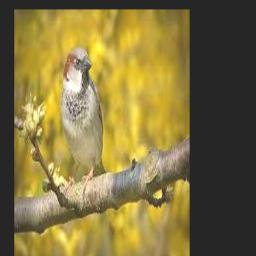Sparrow: (61, 46, 107, 185)
